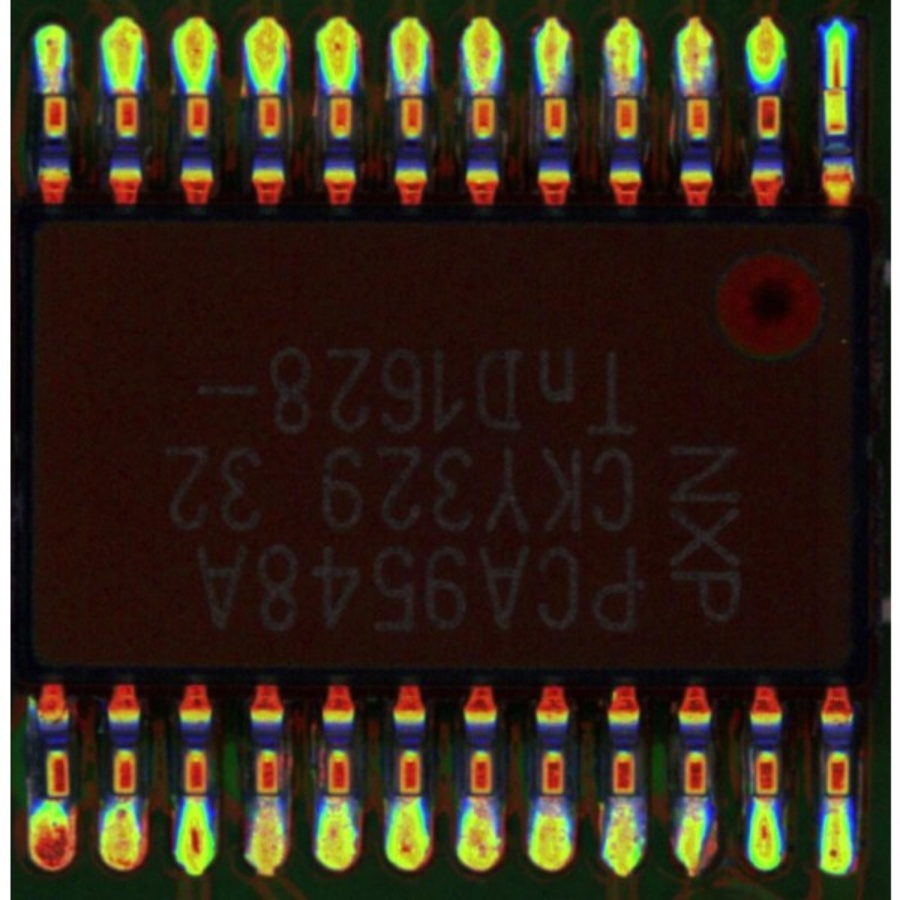Bad_podu: (329, 773, 347, 829), (828, 774, 846, 829), (469, 774, 490, 821), (259, 774, 276, 823), (830, 58, 845, 111)
